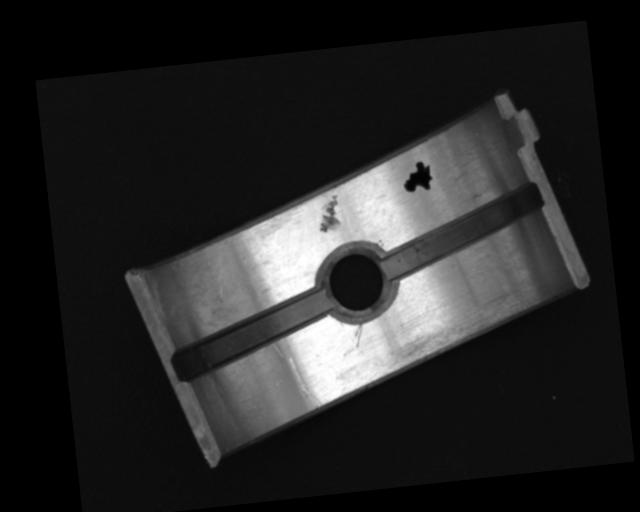blot: (401, 160, 434, 193)
bruise: (316, 194, 342, 234)
gap: (377, 183, 548, 281), (169, 290, 335, 379)
hole: (317, 241, 397, 324)
nick: (286, 354, 322, 411), (352, 321, 366, 348)
scratch: (384, 300, 532, 371)
